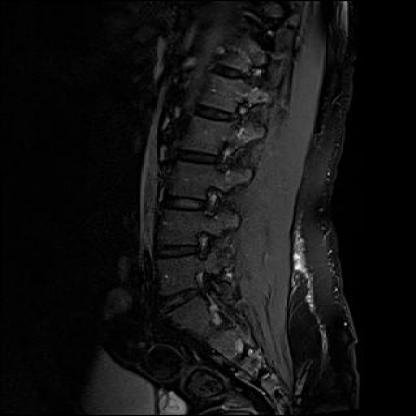Disc Bulgerotation: (151, 283, 213, 311), (148, 239, 210, 266)
